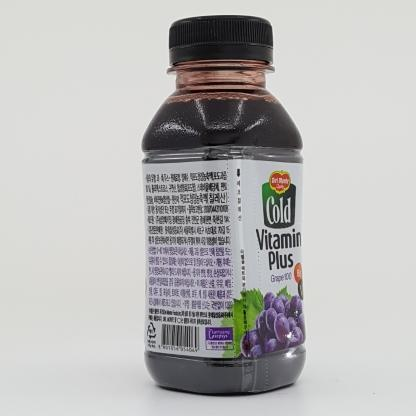---------------240ML: (141, 15, 306, 393)
